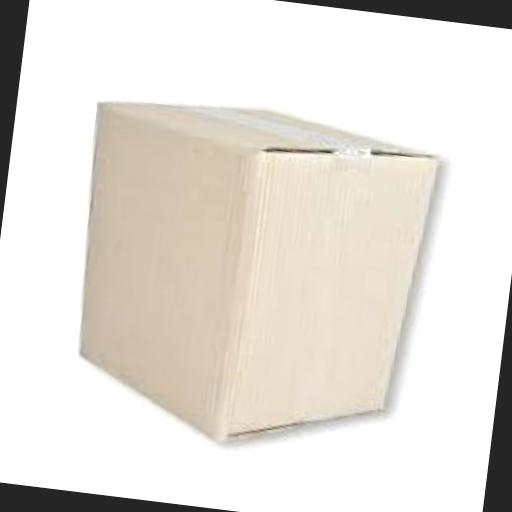cardboard: (61, 89, 446, 464)
